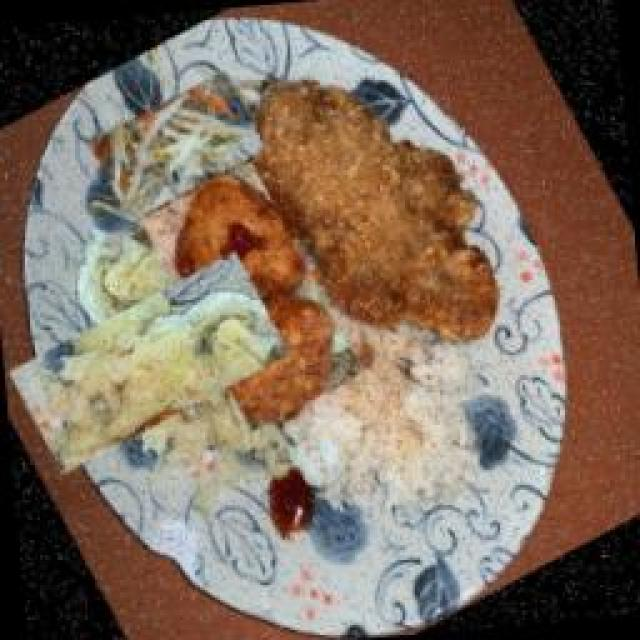Wet Waste: (250, 58, 502, 378), (15, 230, 280, 495), (132, 152, 368, 440), (280, 317, 495, 535), (82, 65, 272, 225)
